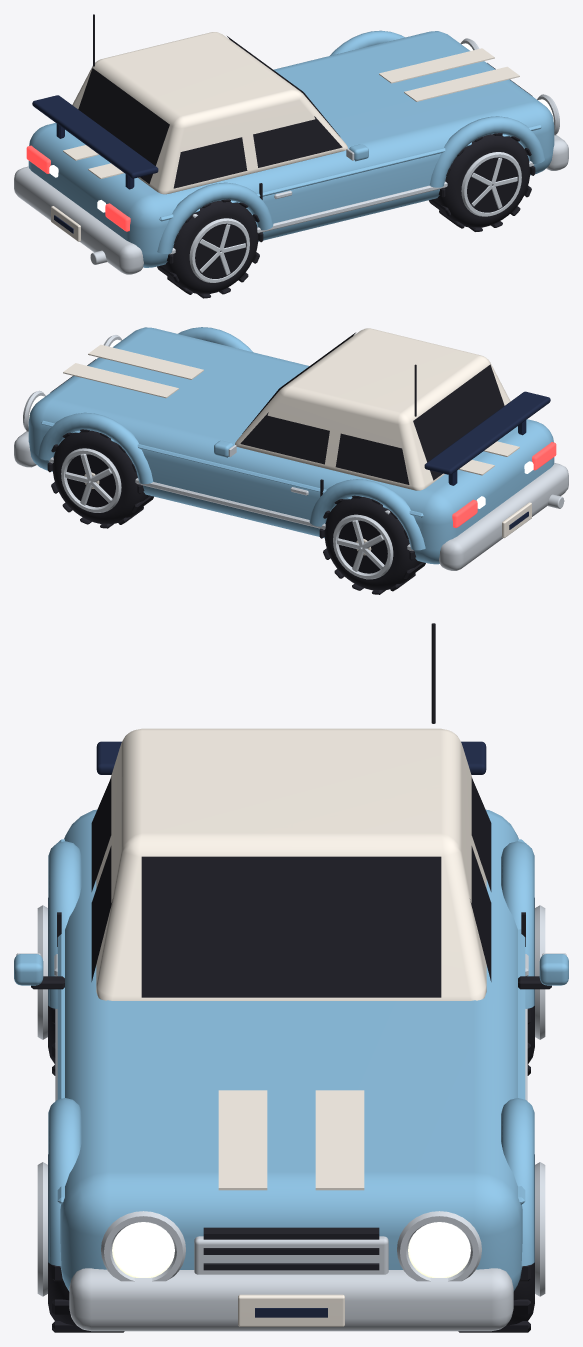
File: car_c.glb
3 renders of one model, top to bottom at view 1: azimuth 30°, elevation 25°; view 2: azimuth 150°, elevation 25°; view 3: azimuth 270°, elevation 25°, orthographic. The views are drawn at different scales.
Parts seen in each view (by area): view 1: car_c; view 2: car_c; view 3: car_c.
Part boxes in pixels (x1=…): car_c: x1=14, y1=14, x2=568, y2=298; car_c: x1=14, y1=327, x2=568, y2=594; car_c: x1=14, y1=623, x2=568, y2=1332.
Size of the model in its own units: 4.24 by 1.89 by 2.28.
1 material, 1 textured.
